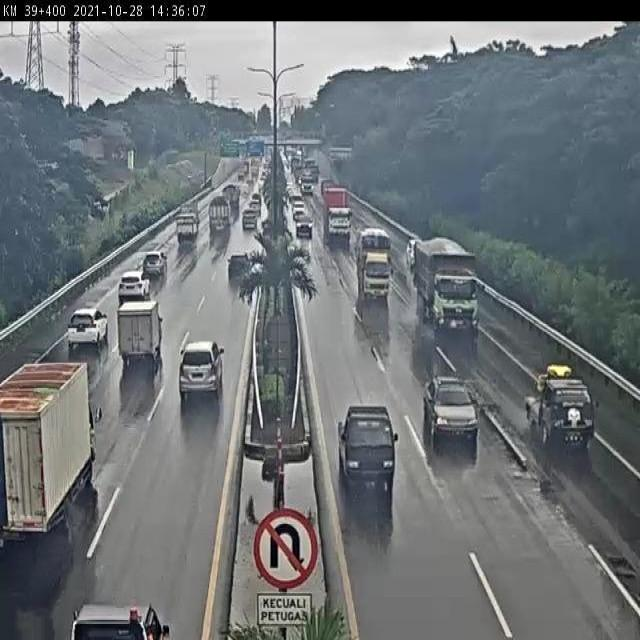big truck: (412, 244, 474, 329), (525, 375, 586, 444), (427, 378, 478, 442), (324, 187, 348, 237), (207, 200, 233, 235), (222, 183, 240, 205)
car: (336, 408, 404, 476), (68, 600, 175, 640), (175, 337, 225, 416), (56, 309, 96, 372), (135, 251, 163, 284), (225, 256, 247, 297), (112, 276, 139, 304), (297, 220, 316, 239), (290, 201, 305, 219), (247, 210, 256, 234), (405, 236, 411, 260), (250, 201, 258, 215)
small truck: (3, 365, 94, 583), (111, 308, 150, 379), (360, 253, 388, 296), (171, 217, 195, 243)
